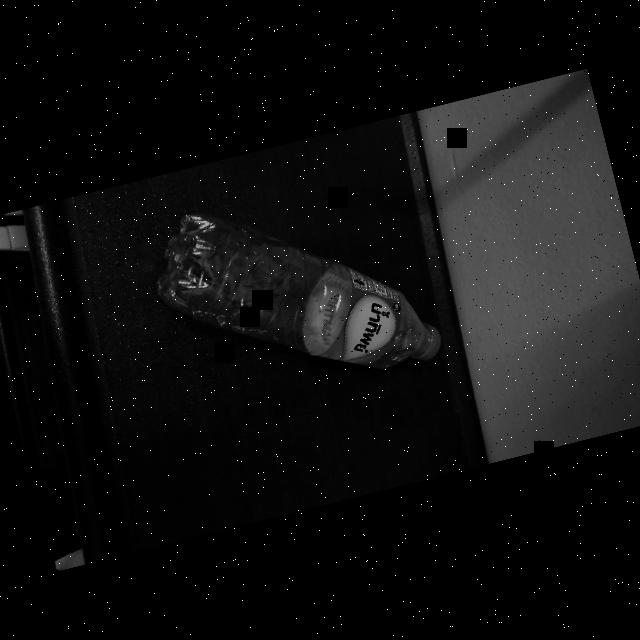plastic_bottle: (119, 147, 454, 440)
plastic_bottle_cap: (403, 325, 447, 366)
